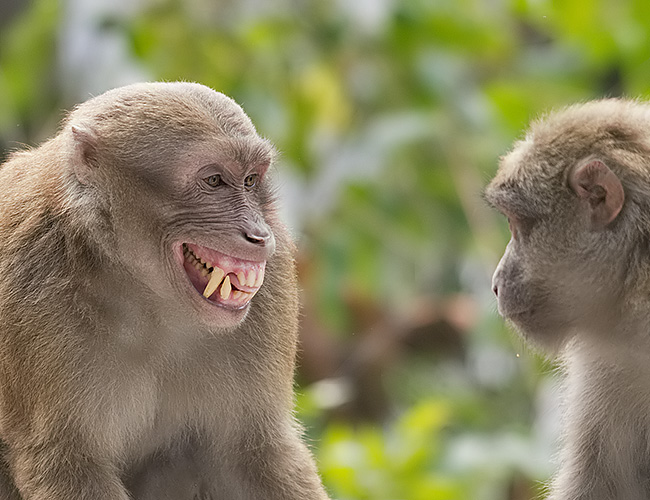monkey: (1, 71, 352, 500), (456, 90, 650, 500)
